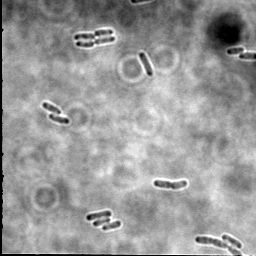Dividing: (194, 235, 242, 255), (74, 27, 114, 42), (75, 36, 117, 50), (153, 178, 188, 191)
Rod: (137, 51, 155, 77), (84, 209, 113, 223), (221, 232, 243, 250), (41, 100, 62, 116), (47, 113, 72, 125), (101, 220, 122, 233), (91, 216, 112, 228), (225, 46, 245, 56)
